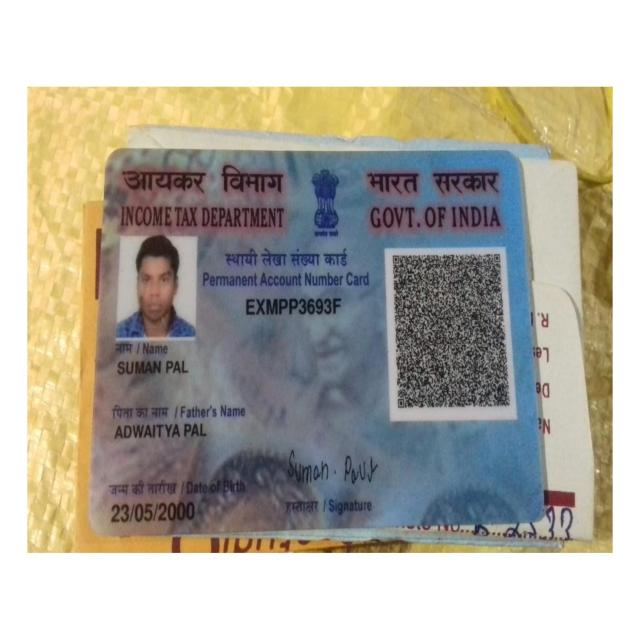pan_card: (93, 147, 547, 540)
